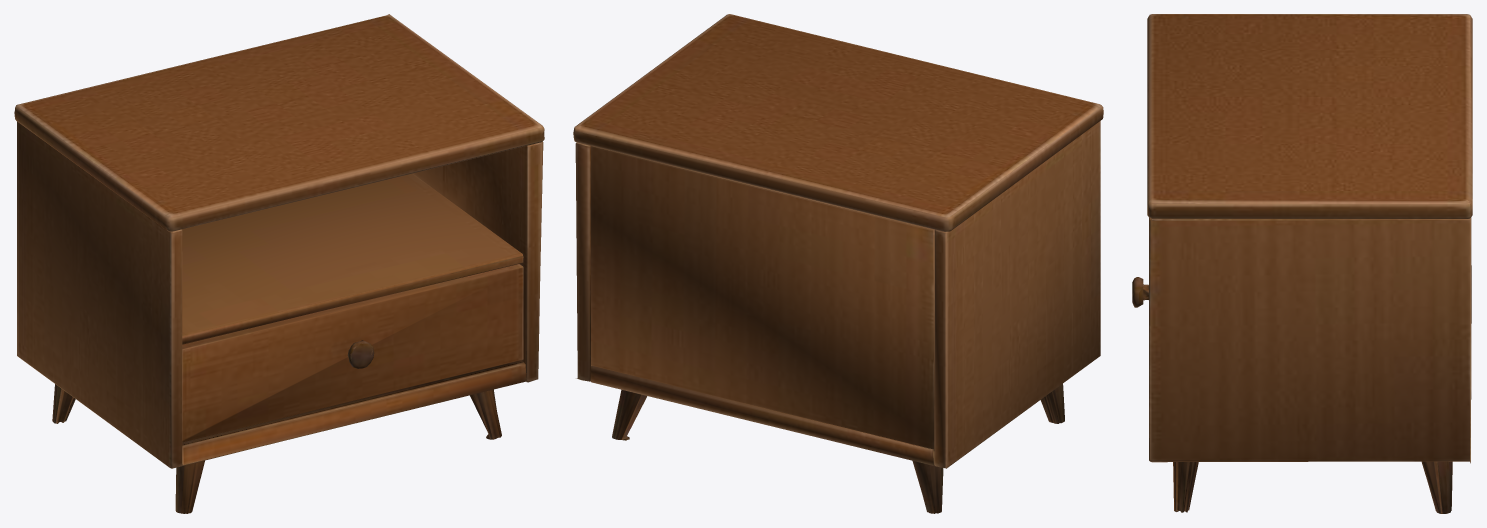
The model's file is bedside__5.glb.
The picture shows the model from 3 angles, left to right: view 1: azimuth 30°, elevation 25°; view 2: azimuth 150°, elevation 25°; view 3: azimuth 270°, elevation 25°; orthographic projection. The views are drawn at different scales.
Visible parts, largest first — view 1: Mesh_0.178; view 2: Mesh_0.178; view 3: Mesh_0.178.
Boxes of the visible parts, <box> form: Mesh_0.178: <box>14,14,544,513</box>; Mesh_0.178: <box>573,14,1103,513</box>; Mesh_0.178: <box>1132,14,1472,513</box>.
Size of the model in its own units: 0.7826 by 0.62 by 0.5869.
Materials: 1 (1 with a texture image).
